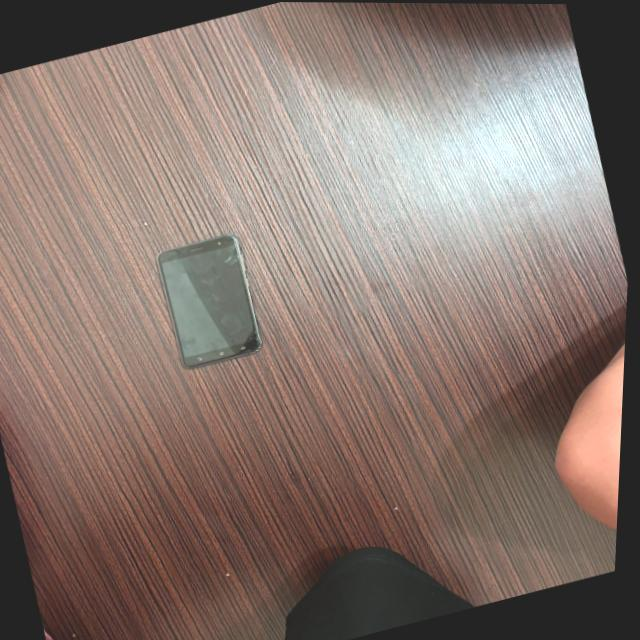Smartphone: (158, 234, 265, 367)
